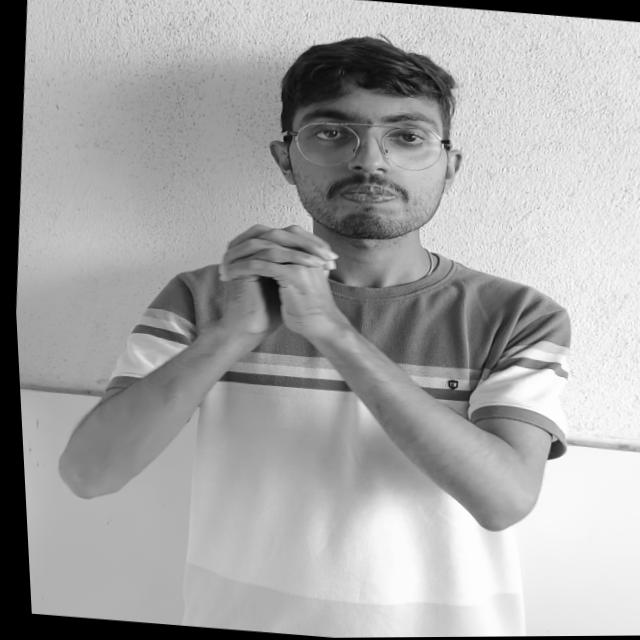Sorry: (152, 202, 400, 369)
